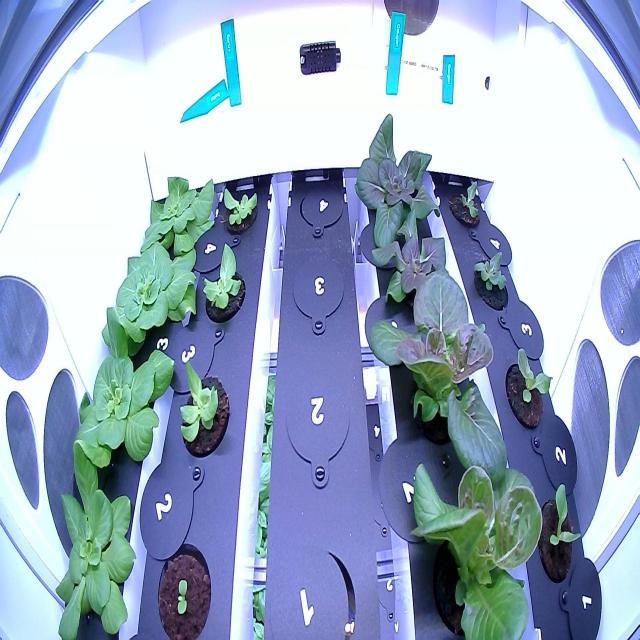empty_pod: (276, 365, 358, 493), (264, 534, 358, 640), (287, 243, 350, 339), (294, 170, 348, 240)
germination: (153, 537, 216, 639)
young: (390, 404, 550, 640), (361, 263, 522, 496), (66, 300, 176, 478), (48, 430, 140, 640), (349, 106, 447, 257), (92, 234, 204, 361), (366, 206, 460, 314), (128, 158, 219, 264), (528, 472, 592, 586), (173, 354, 234, 463), (500, 336, 558, 438), (196, 237, 250, 328), (468, 240, 517, 318), (445, 164, 487, 240), (215, 180, 262, 240)
